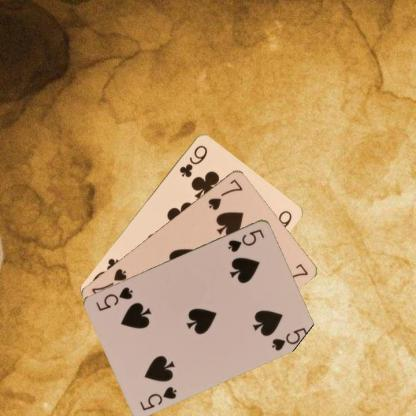5s: (137, 383, 178, 412), (225, 226, 266, 253)
7s: (206, 176, 244, 212)
9c: (176, 142, 209, 179)
